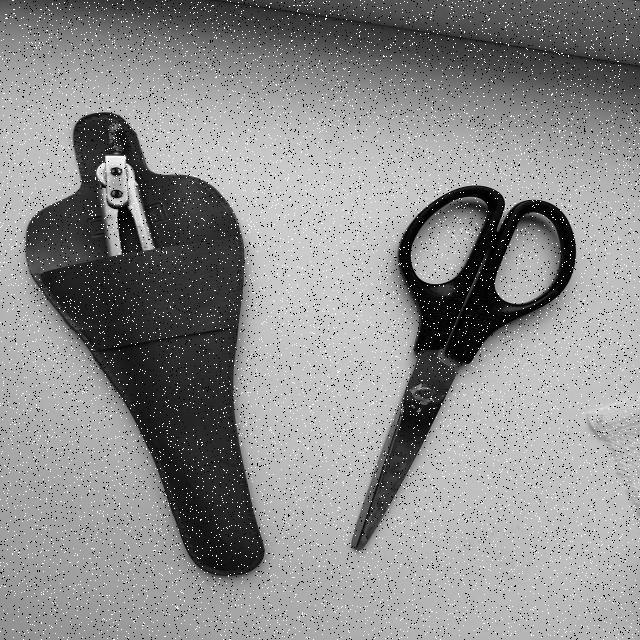scissors: (310, 157, 625, 569)
